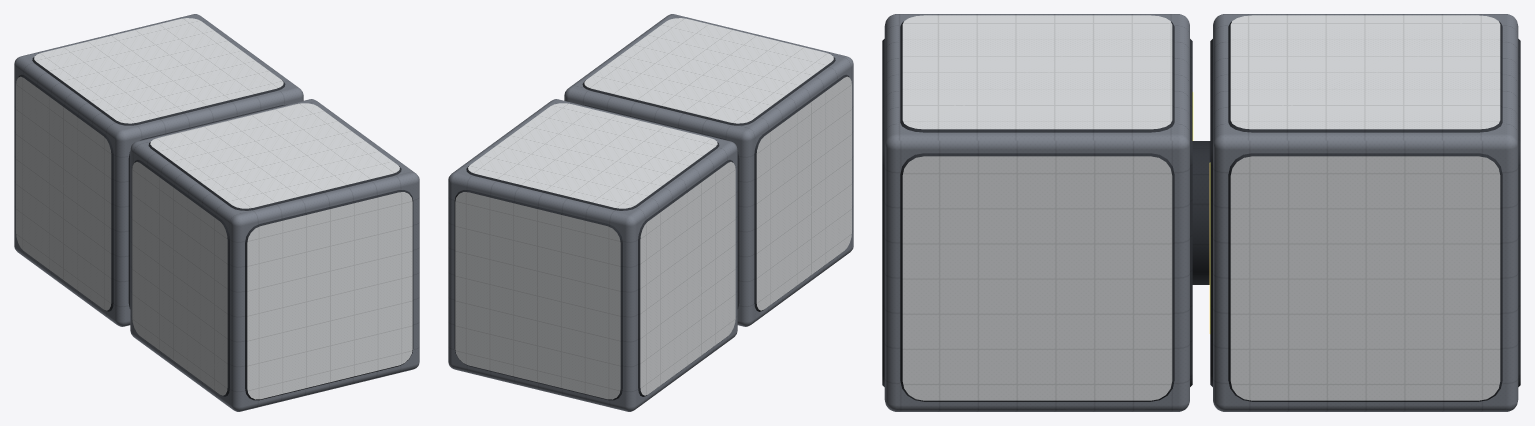
Rendered from R4C_STRUT_SHORT.glb.
3 renders of one model, left to right at view 1: azimuth 30°, elevation 25°; view 2: azimuth 150°, elevation 25°; view 3: azimuth 270°, elevation 25°, orthographic. The views are drawn at different scales.
Visible parts, largest first — view 1: R4C_STRUT_SHORT; view 2: R4C_STRUT_SHORT; view 3: R4C_STRUT_SHORT.
Boxes of the visible parts, x1,y1,x2,y2 form: R4C_STRUT_SHORT: (14, 14, 419, 411); R4C_STRUT_SHORT: (448, 14, 853, 411); R4C_STRUT_SHORT: (882, 14, 1520, 411).
Size of the model in its own units: 0.52 by 0.52 by 1.07.
Materials: 4 (3 with a texture image).
